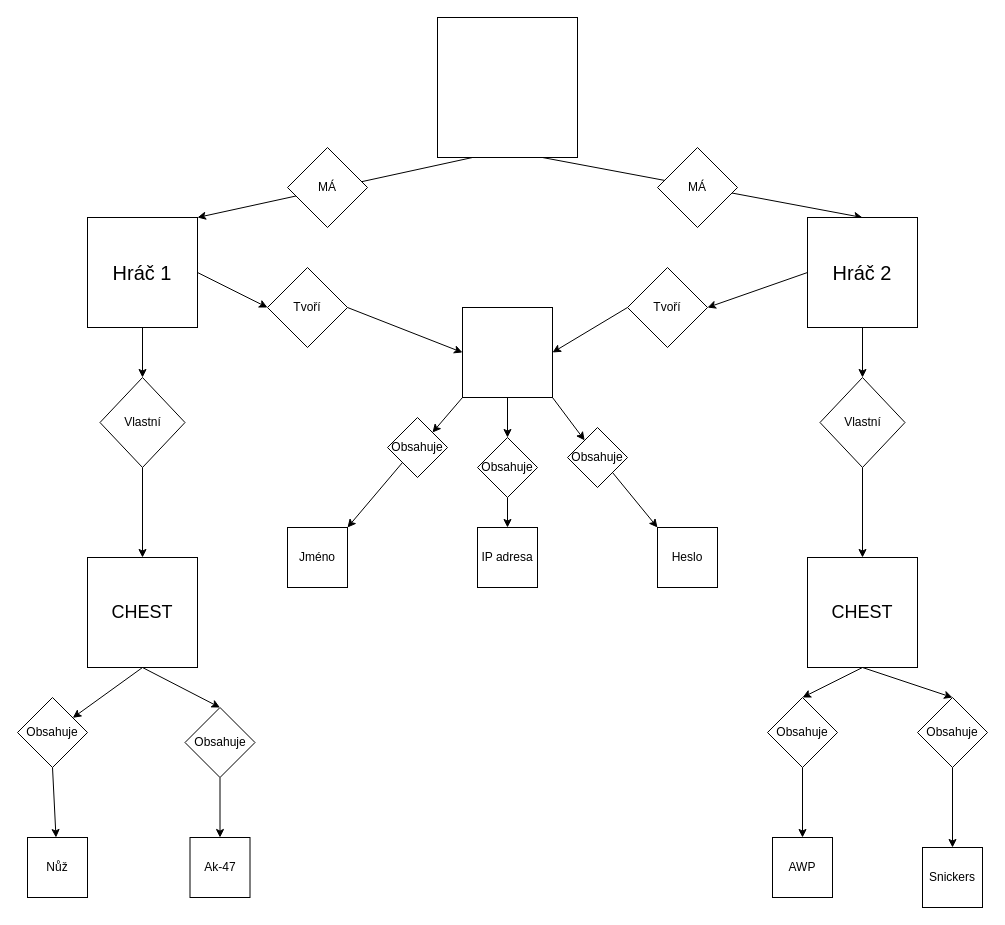
Some shapes in this 1005 by 925 pixel diagram are drawn without their labels. Each missing label, with the centre of its shape:
Info: [507,352]
Server: [507,87]
